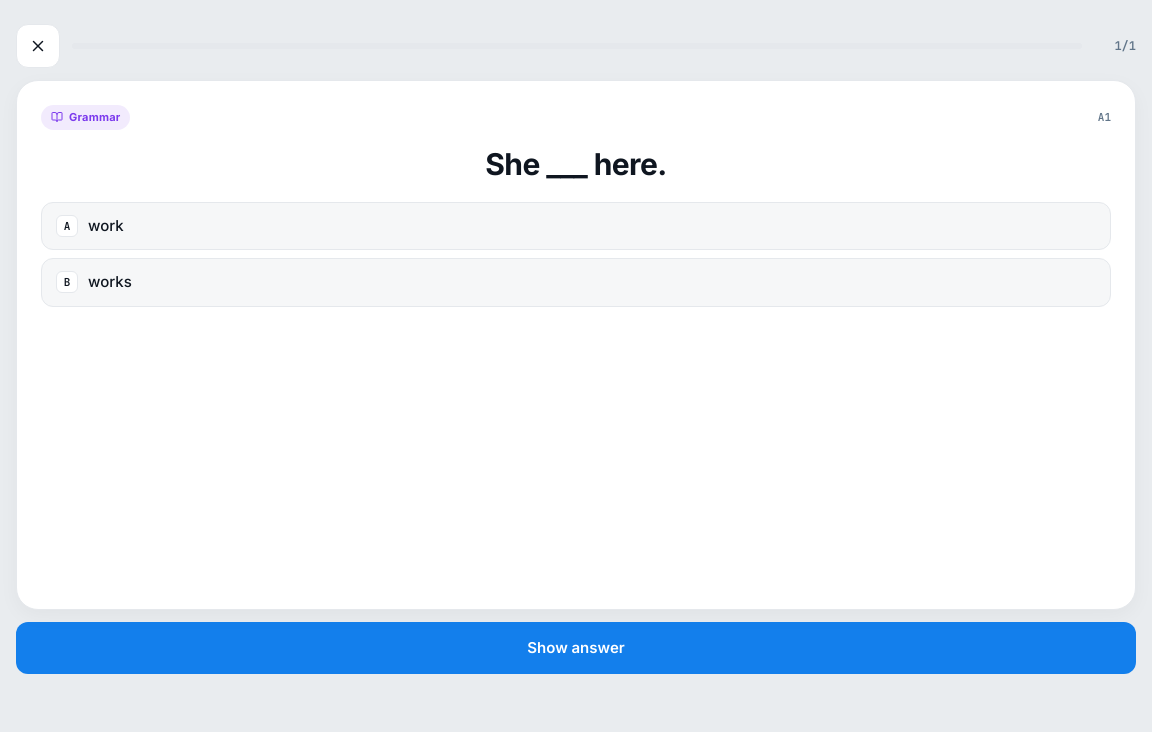
Scenario: Review › shows recovery when the server returns an unusable next card
What coordinates should you click on to do the following:
click the button "Show answer"
I would click on:
 (576, 648)
Its box is [16,622,1136,674].
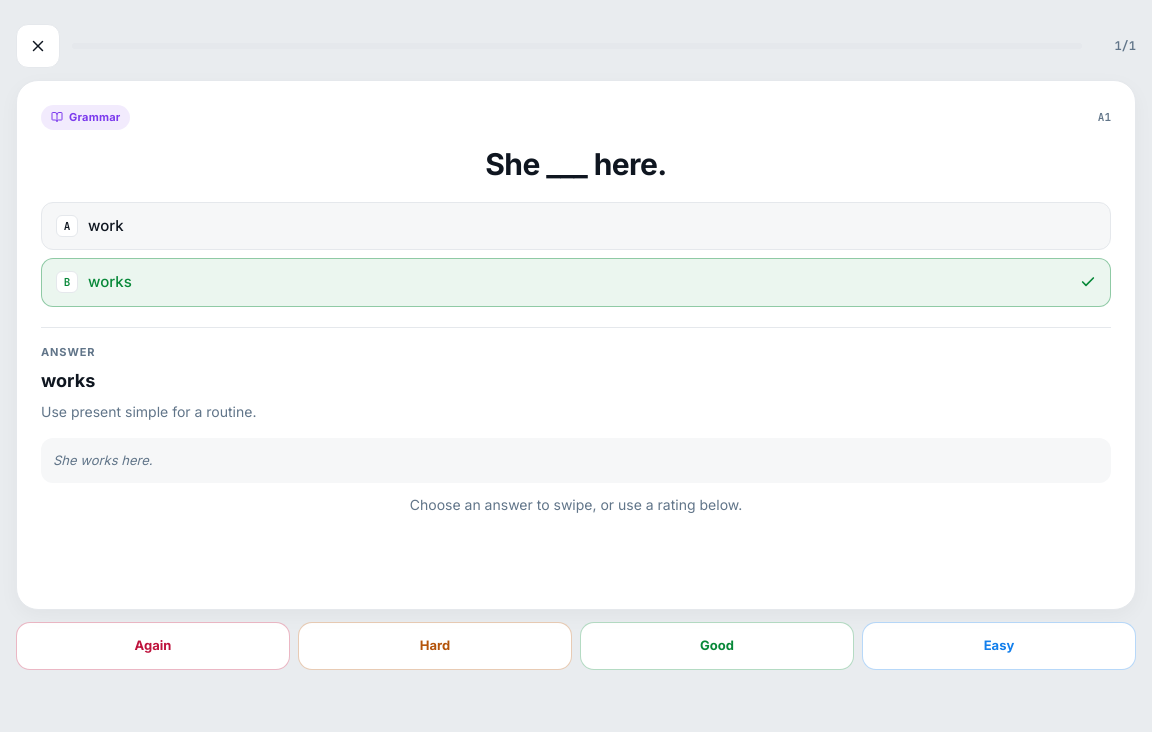
What coordinates should you click on to do the following:
click the button "Good"
I would click on:
 (717, 646)
Its box is [580,622,854,670].
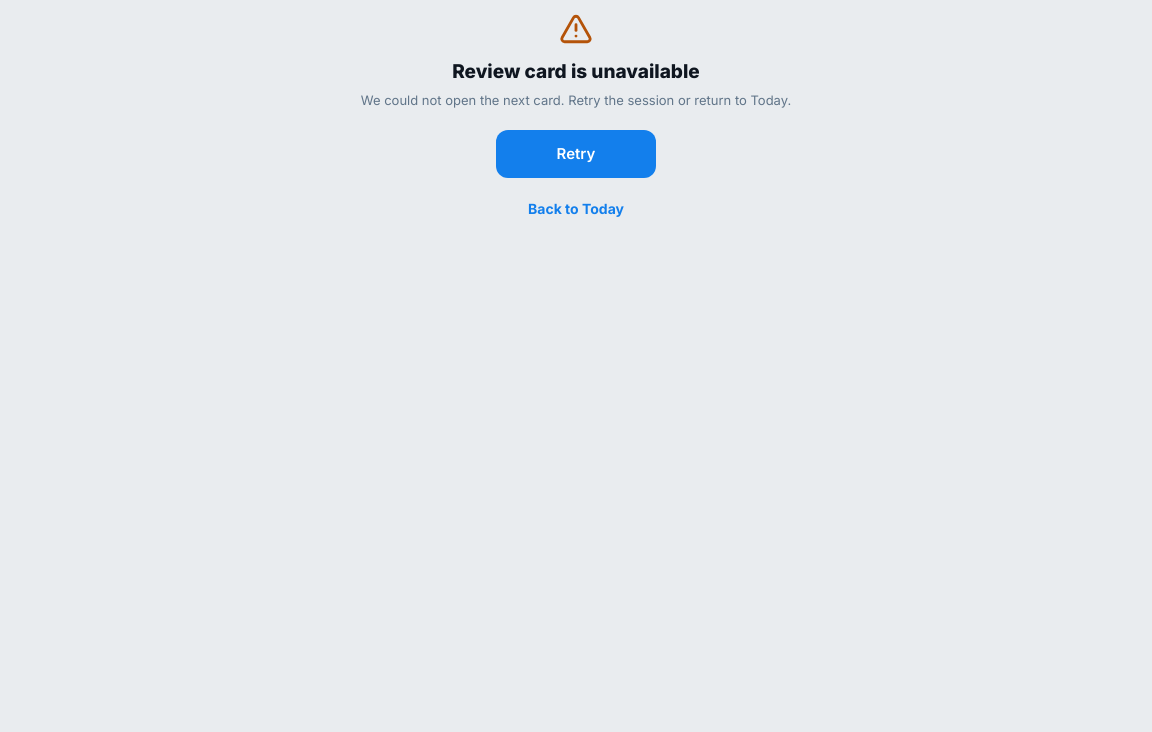
expect the text "Review card is unavailable" is shown: met, box [452,60,700,83]
